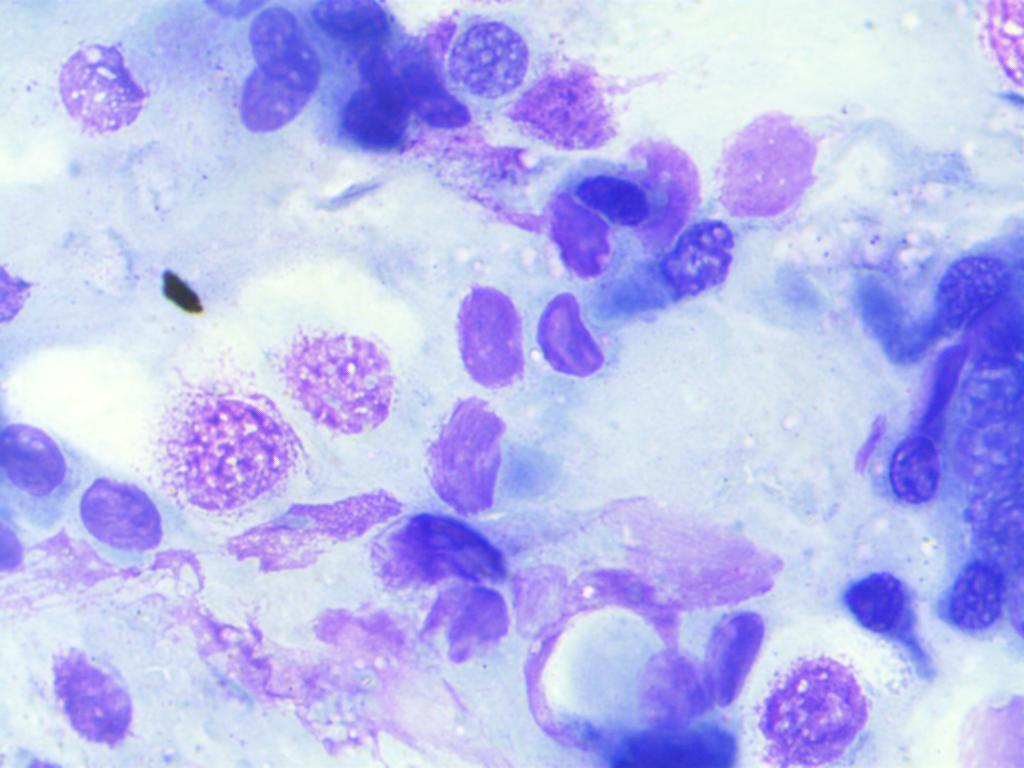artifact: (171, 606, 448, 758), (518, 571, 673, 749), (219, 470, 396, 584), (168, 387, 308, 521), (278, 312, 403, 436), (32, 644, 159, 755), (709, 108, 824, 228), (410, 575, 525, 656), (149, 265, 216, 330)
epithelial: (356, 482, 524, 614), (537, 156, 672, 294), (756, 646, 868, 767), (629, 221, 758, 318), (337, 66, 429, 177), (0, 409, 84, 528), (389, 41, 484, 146), (444, 269, 527, 389), (509, 63, 622, 151), (237, 1, 334, 92), (524, 288, 614, 386), (233, 57, 331, 143), (445, 12, 533, 97), (79, 472, 160, 551), (706, 610, 765, 711)
goblet_cell: (28, 13, 168, 147)
metaplastic: (926, 237, 1021, 341), (941, 560, 1010, 638), (878, 431, 943, 510), (840, 560, 905, 639)
